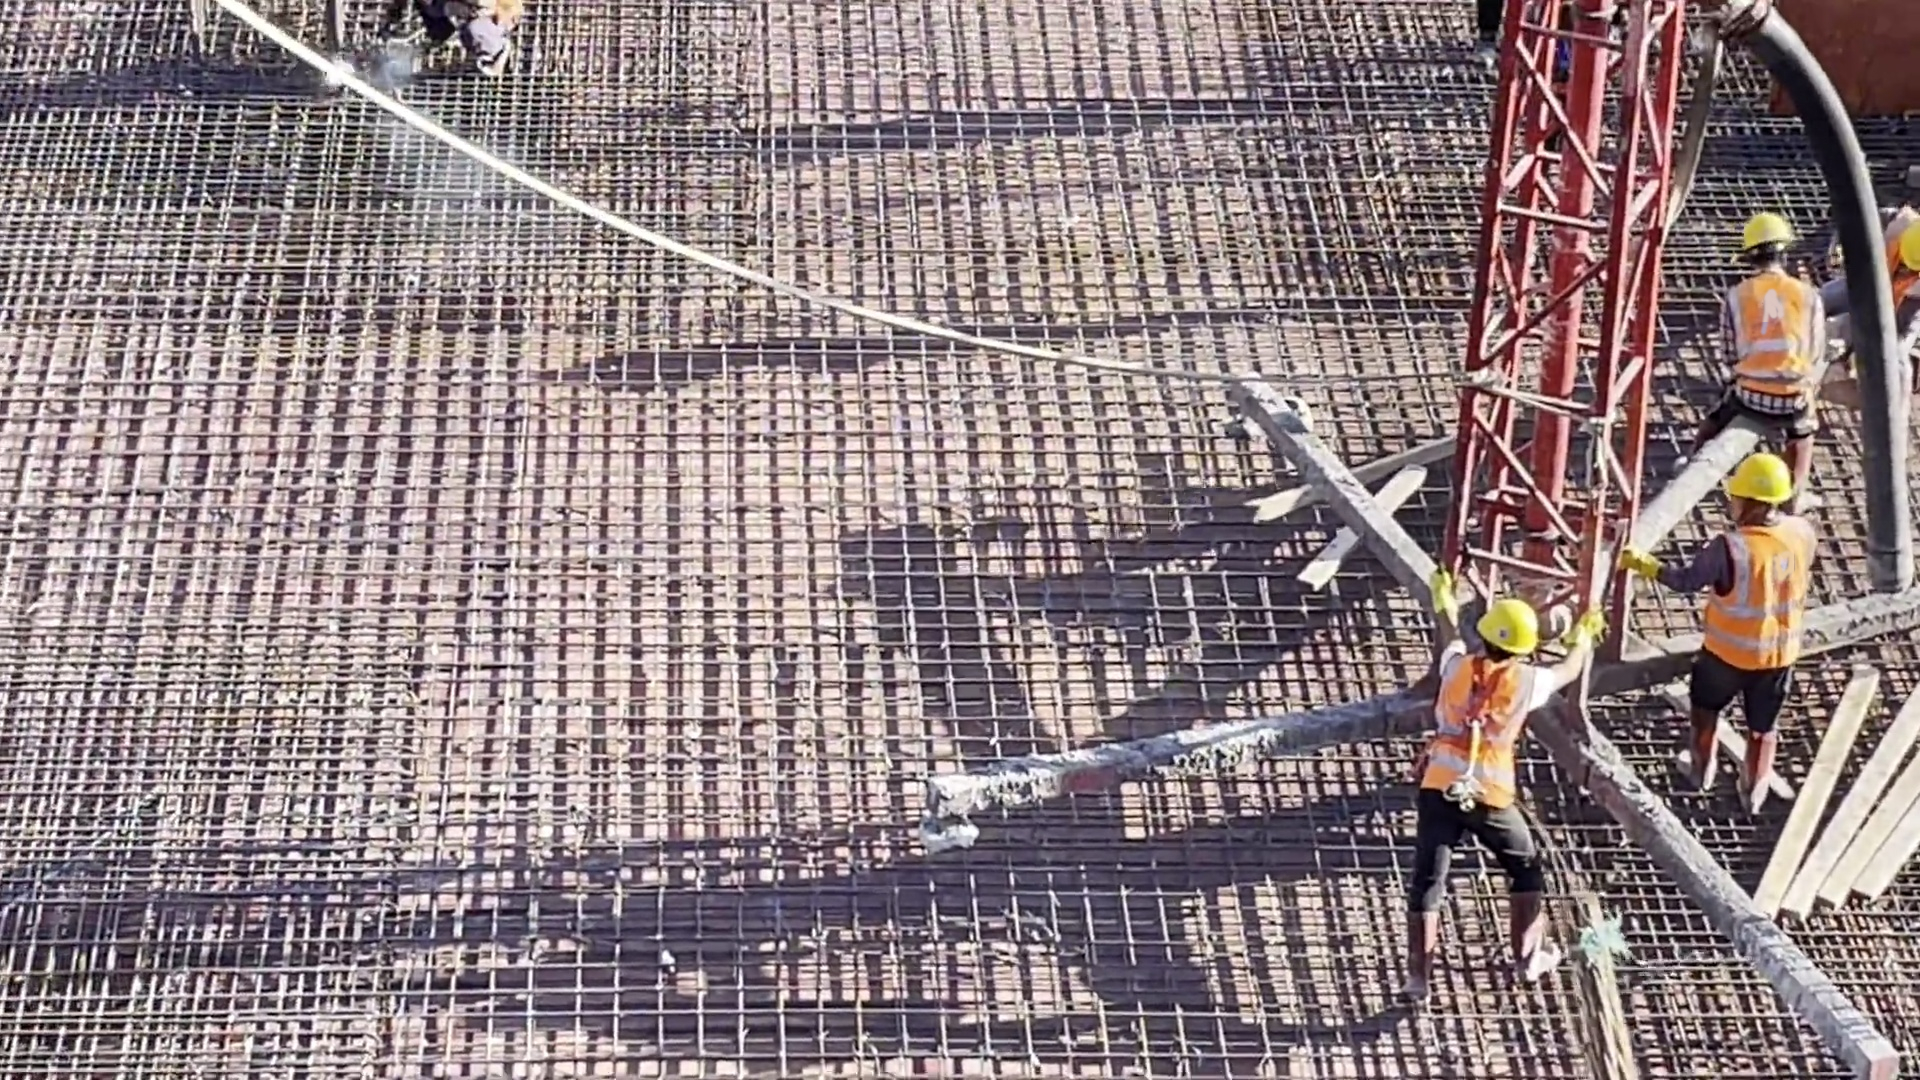helmet: (1476, 599, 1546, 655), (1727, 459, 1797, 504), (1739, 211, 1793, 245), (1893, 222, 1920, 285)
person: (1407, 563, 1596, 1011), (1622, 443, 1815, 815), (1712, 209, 1828, 485), (1799, 202, 1920, 368), (370, 1, 525, 71)
vest: (1431, 657, 1545, 809), (1719, 535, 1808, 677), (1723, 275, 1815, 381), (1874, 215, 1918, 293)
